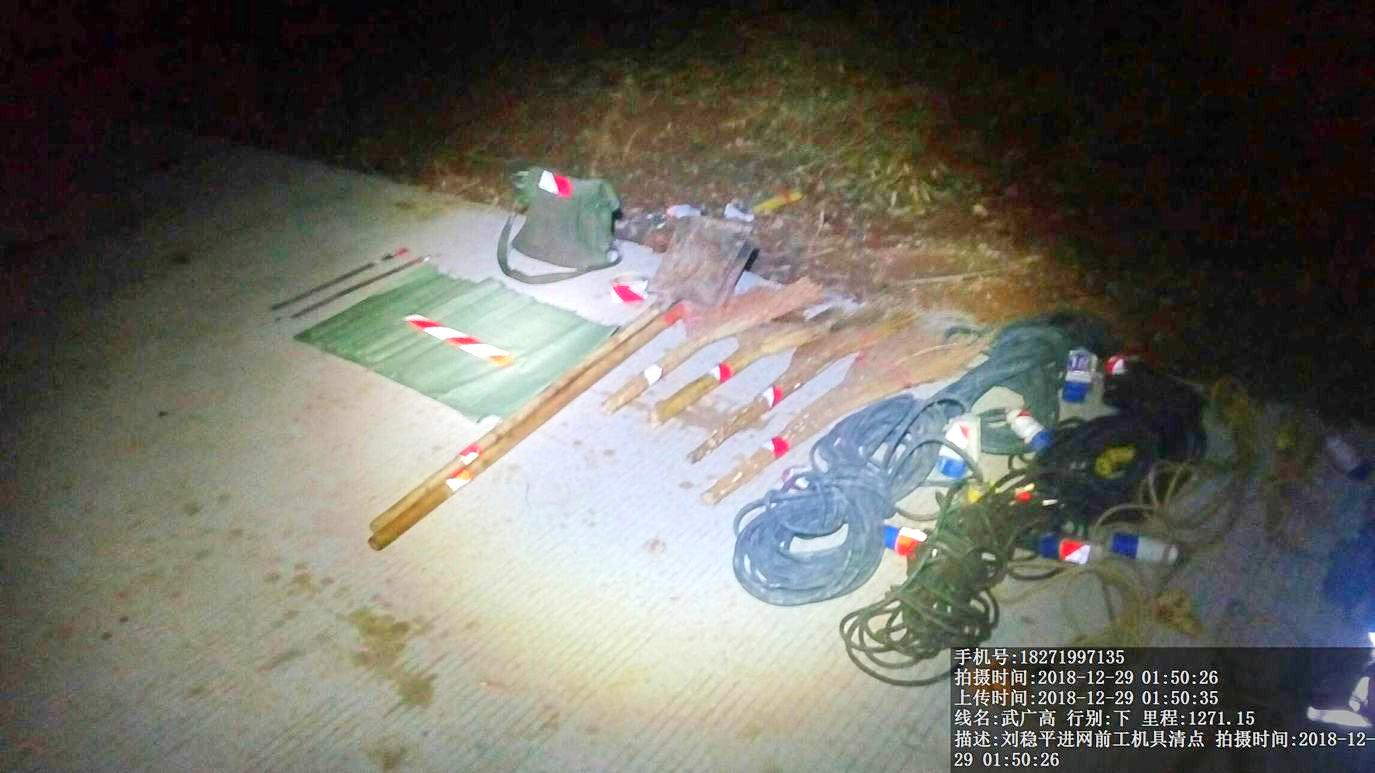DX: (865, 501, 1007, 670)
GJB: (498, 169, 625, 283)
SB: (619, 276, 791, 410)
